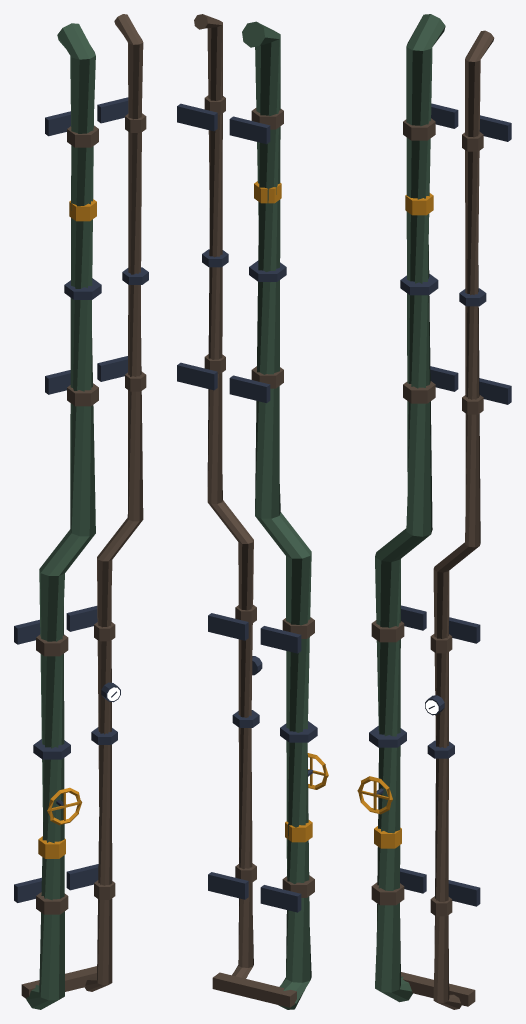
File: city_pipe_run.glb
3 renders of one model, left to right at view 1: azimuth 30°, elevation 25°; view 2: azimuth 150°, elevation 25°; view 3: azimuth 330°, elevation 25°, orthographic.
Visible parts, largest first — view 1: pipe, pipe.001, valve_spoke, bottom_mount, wall_plate.004, wall_plate.007, wall_plate.005, wall_plate.006, pipe_clamp.001, pipe_clamp, pipe_clamp.002, flange (+13 smaller); view 2: pipe, pipe.001, bottom_mount, valve_spoke, wall_plate, wall_plate.001, wall_plate.002, wall_plate.003, wall_plate.004, wall_plate.005, wall_plate.006, wall_plate.007 (+6 smaller); view 3: pipe, pipe.001, valve_spoke, bottom_mount, wall_plate.006, wall_plate.004, wall_plate.007, wall_plate.005, pipe_clamp.002, wall_plate.002, pipe_clamp, flange.001 (+8 smaller).
Part boxes in pixels (x1,y1,x2,y2): pipe: (26, 23, 95, 1009); pipe.001: (84, 14, 143, 991); valve_spoke: (38, 199, 96, 858); bottom_mount: (21, 966, 96, 998); wall_plate.004: (66, 864, 98, 890); wall_plate.007: (97, 97, 128, 123); wall_plate.005: (66, 606, 97, 631); wall_plate.006: (97, 356, 127, 381); pipe_clamp.001: (36, 634, 68, 656); pipe_clamp: (36, 892, 68, 914); pipe_clamp.002: (67, 383, 98, 406); flange: (33, 691, 116, 759); pipe: (242, 21, 311, 1009); pipe.001: (194, 14, 253, 978); bottom_mount: (212, 972, 296, 1007); valve_spoke: (254, 181, 324, 842); wall_plate: (260, 885, 301, 912); wall_plate.001: (260, 626, 301, 653); wall_plate.002: (229, 375, 270, 403); wall_plate.003: (229, 116, 270, 144); wall_plate.004: (208, 872, 248, 899); wall_plate.005: (208, 613, 248, 640); wall_plate.006: (177, 362, 217, 390); wall_plate.007: (177, 103, 217, 131); pipe: (375, 14, 445, 1002); pipe.001: (433, 30, 494, 1009); valve_spoke: (360, 193, 433, 848); bottom_mount: (401, 972, 475, 1006); wall_plate.006: (479, 378, 511, 404); wall_plate.004: (448, 880, 480, 906); wall_plate.007: (479, 115, 511, 141); wall_plate.005: (449, 617, 480, 643); pipe_clamp.002: (403, 381, 435, 403); wall_plate.002: (430, 366, 458, 391); pipe_clamp: (371, 882, 404, 905); flange.001: (400, 274, 438, 295).
Size of the model in its own units: 0.78 by 6.06 by 0.374.
